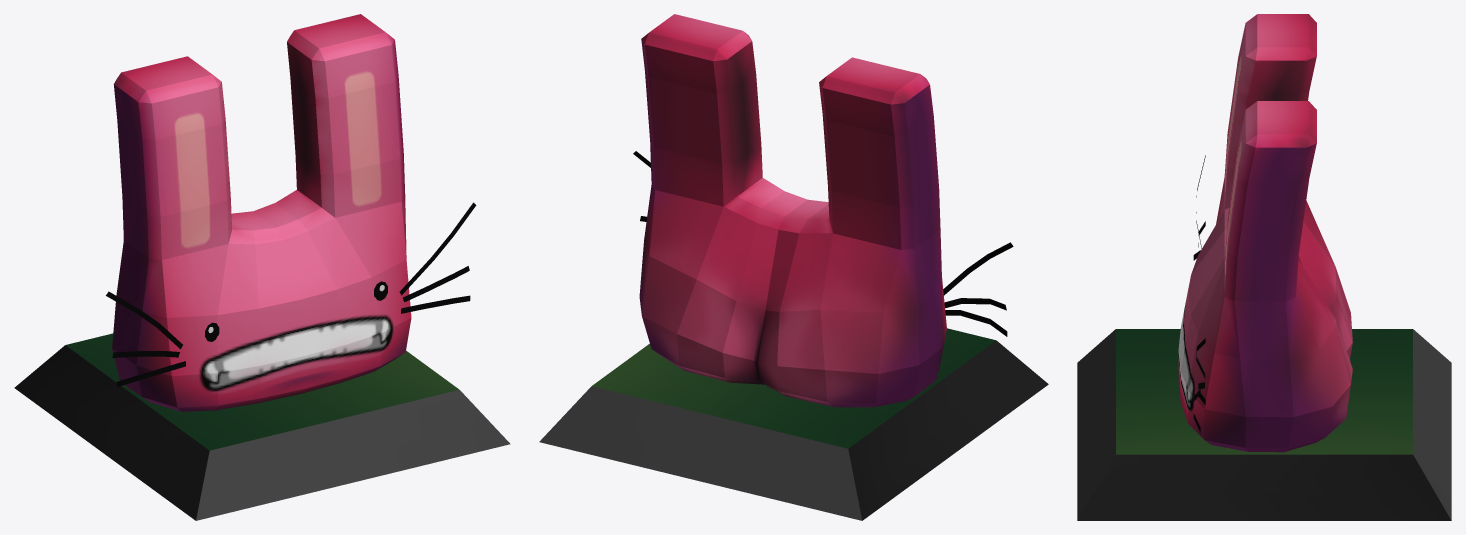
The model's file is LagMini01.fbx.
3 renders of one model, left to right at view 1: azimuth 30°, elevation 25°; view 2: azimuth 150°, elevation 25°; view 3: azimuth 270°, elevation 25°, orthographic. The views are drawn at different scales.
Visible parts, largest first — view 1: LagMini; view 2: LagMini; view 3: LagMini.
Boxes of the visible parts, bbox=[...] form: LagMini: bbox=[14, 14, 510, 520]; LagMini: bbox=[539, 14, 1048, 520]; LagMini: bbox=[1077, 14, 1451, 520].
Bounding box in the file's own units: 1.18 × 1.08 × 1.
